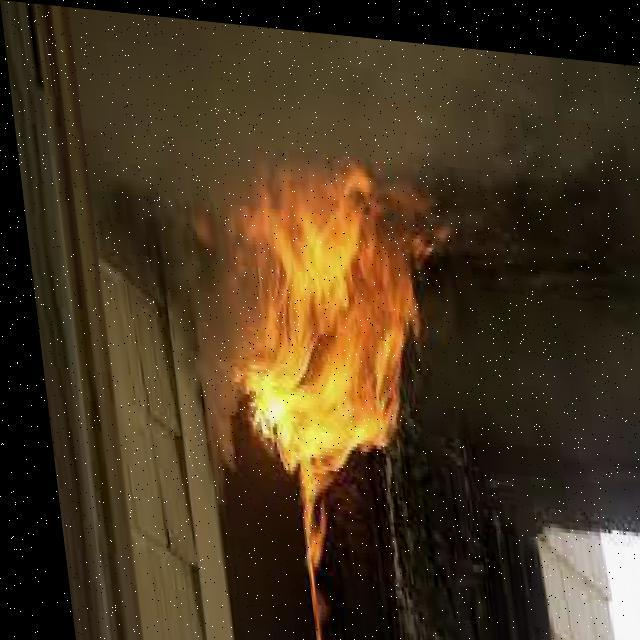Fire: (192, 133, 473, 500)
